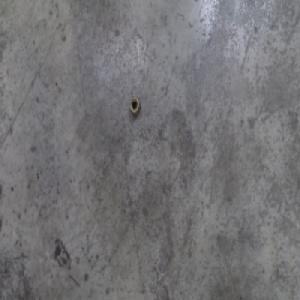Nut: (129, 96, 141, 117)
